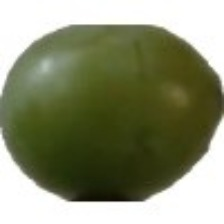grapes: (42, 24, 214, 191)
